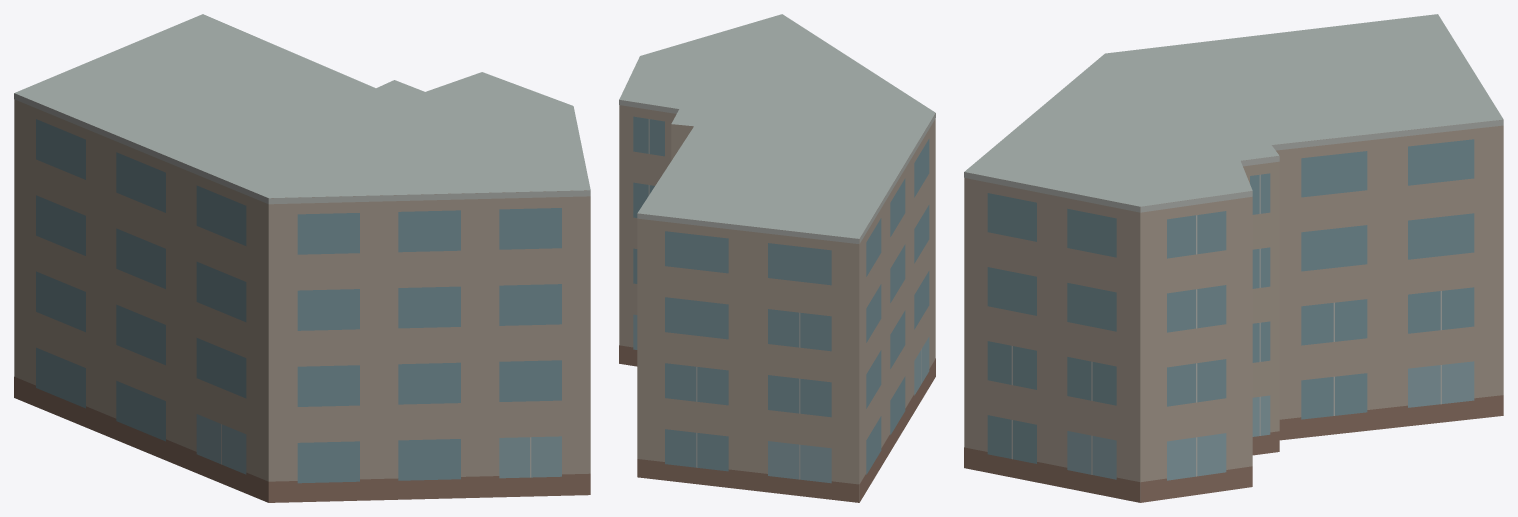
File: survey-upis-32682250.glb
3 renders of one model, left to right at view 1: azimuth 30°, elevation 25°; view 2: azimuth 150°, elevation 25°; view 3: azimuth 270°, elevation 25°, orthographic. The views are drawn at different scales.
Parts seen in each view (by area): view 1: survey-upis-32682250.tmp; view 2: survey-upis-32682250.tmp; view 3: survey-upis-32682250.tmp.
Part boxes in pixels (left/top/right/bottom): survey-upis-32682250.tmp: left=14, top=14, right=590, bottom=502; survey-upis-32682250.tmp: left=619, top=14, right=935, bottom=502; survey-upis-32682250.tmp: left=964, top=14, right=1503, bottom=502.
Bounding box in the file's own units: 17.04 × 12.2 × 20.16.
